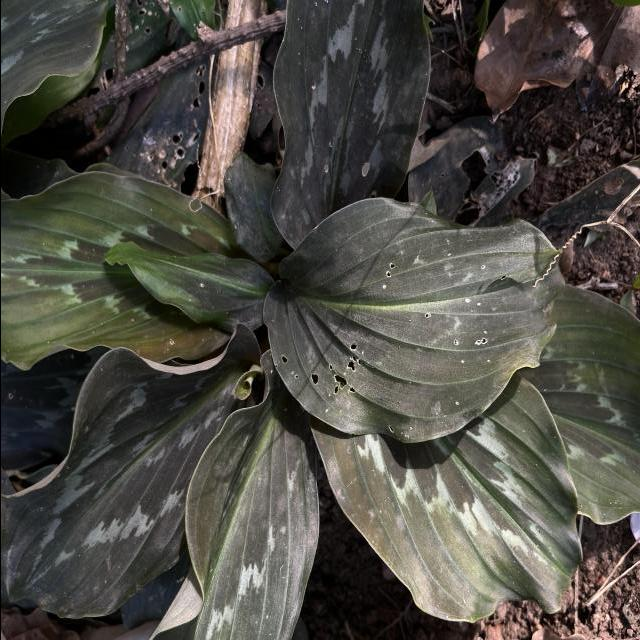Kaempferia galanga linn: (0, 320, 262, 622), (258, 194, 568, 448), (306, 372, 584, 624), (144, 348, 320, 640), (0, 168, 243, 374), (266, 0, 432, 251), (99, 238, 274, 336)
